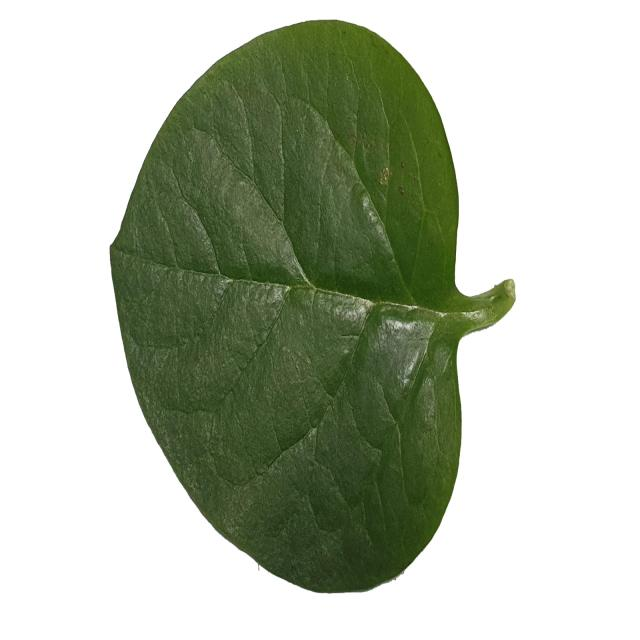Medicinal-Basale: (109, 17, 518, 596)
